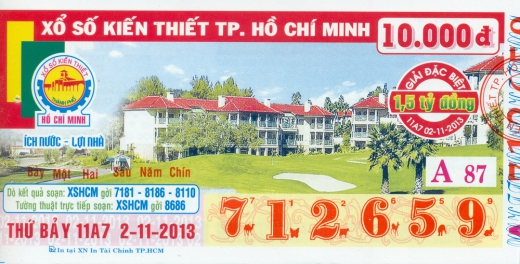serial_zone: (205, 195, 503, 247)
